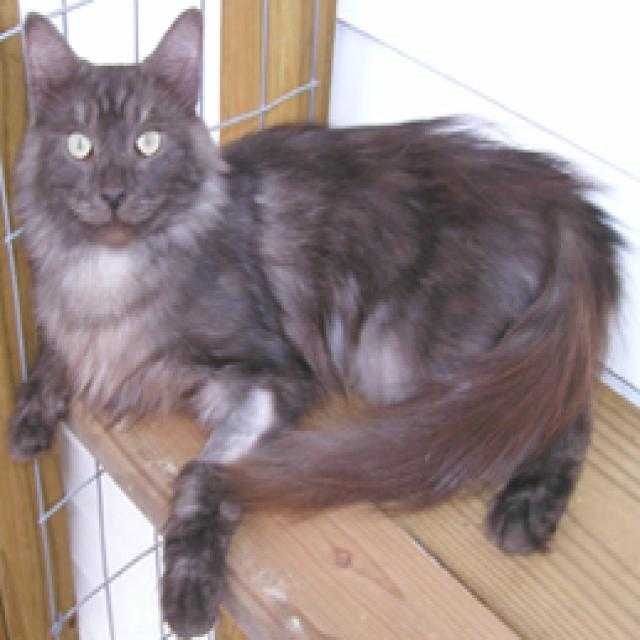cats: (10, 9, 624, 636)
